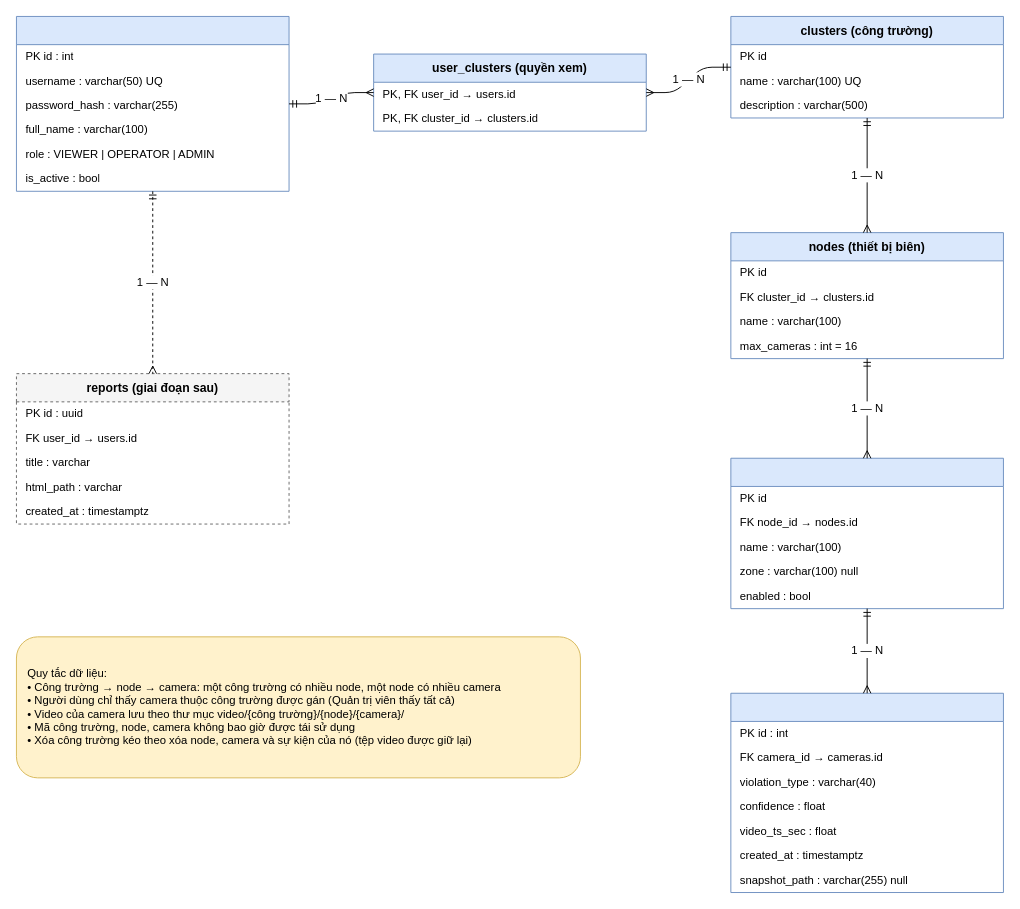
Some shapes in this 1020 by 909 pixel diagram are drawn without their labels. The shapes that lost their labels are listed below. From the top down, each one's box as (x1, y1, x2, y2) in pixels, then its label:
(16, 16, 289, 191): users (người dùng)
(730, 457, 1003, 609): cameras
(730, 692, 1003, 893): violation_events (vi phạm)
